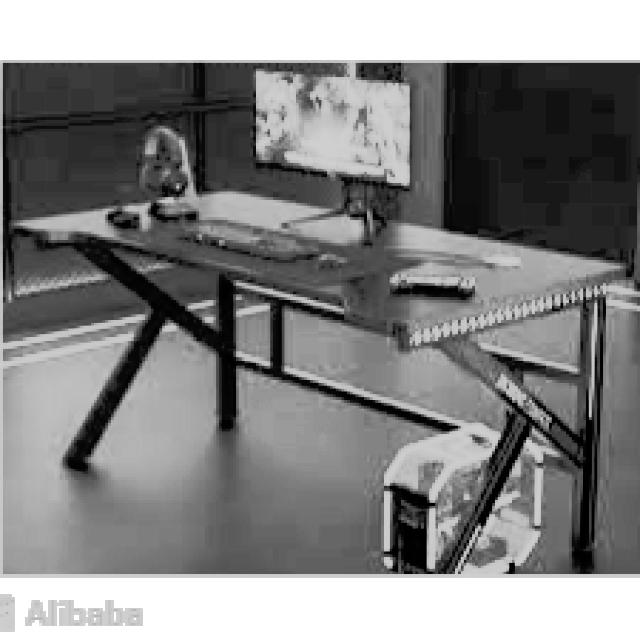table: (8, 186, 626, 571)
